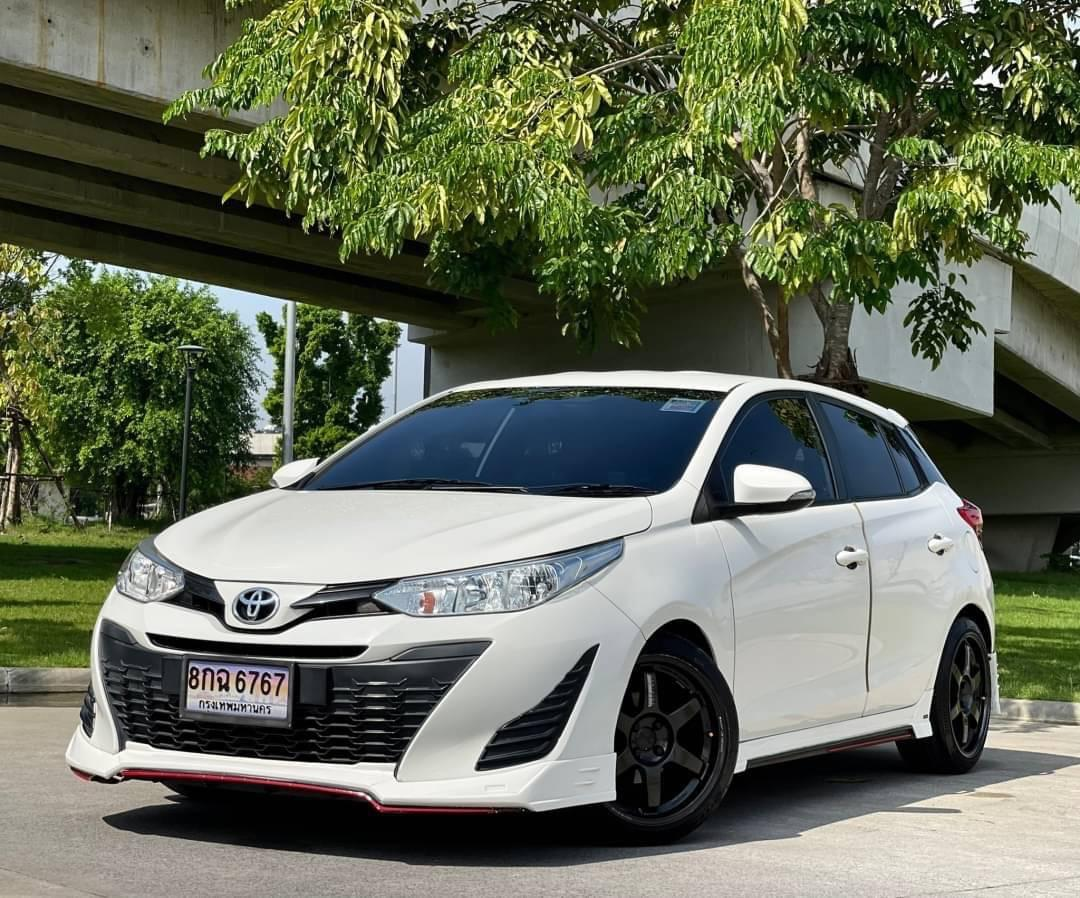license-plate: (178, 654, 299, 730)
